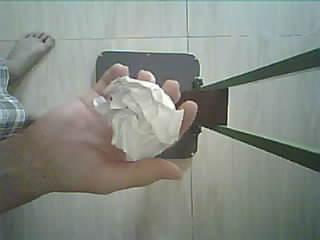paper: (95, 76, 184, 160)
